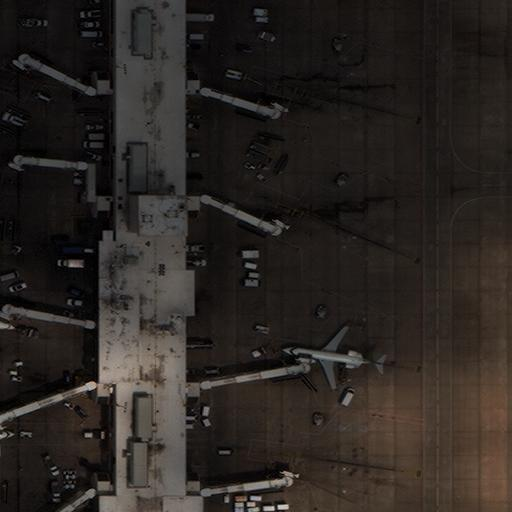Medium Civil Transport: (280, 326, 385, 388)
